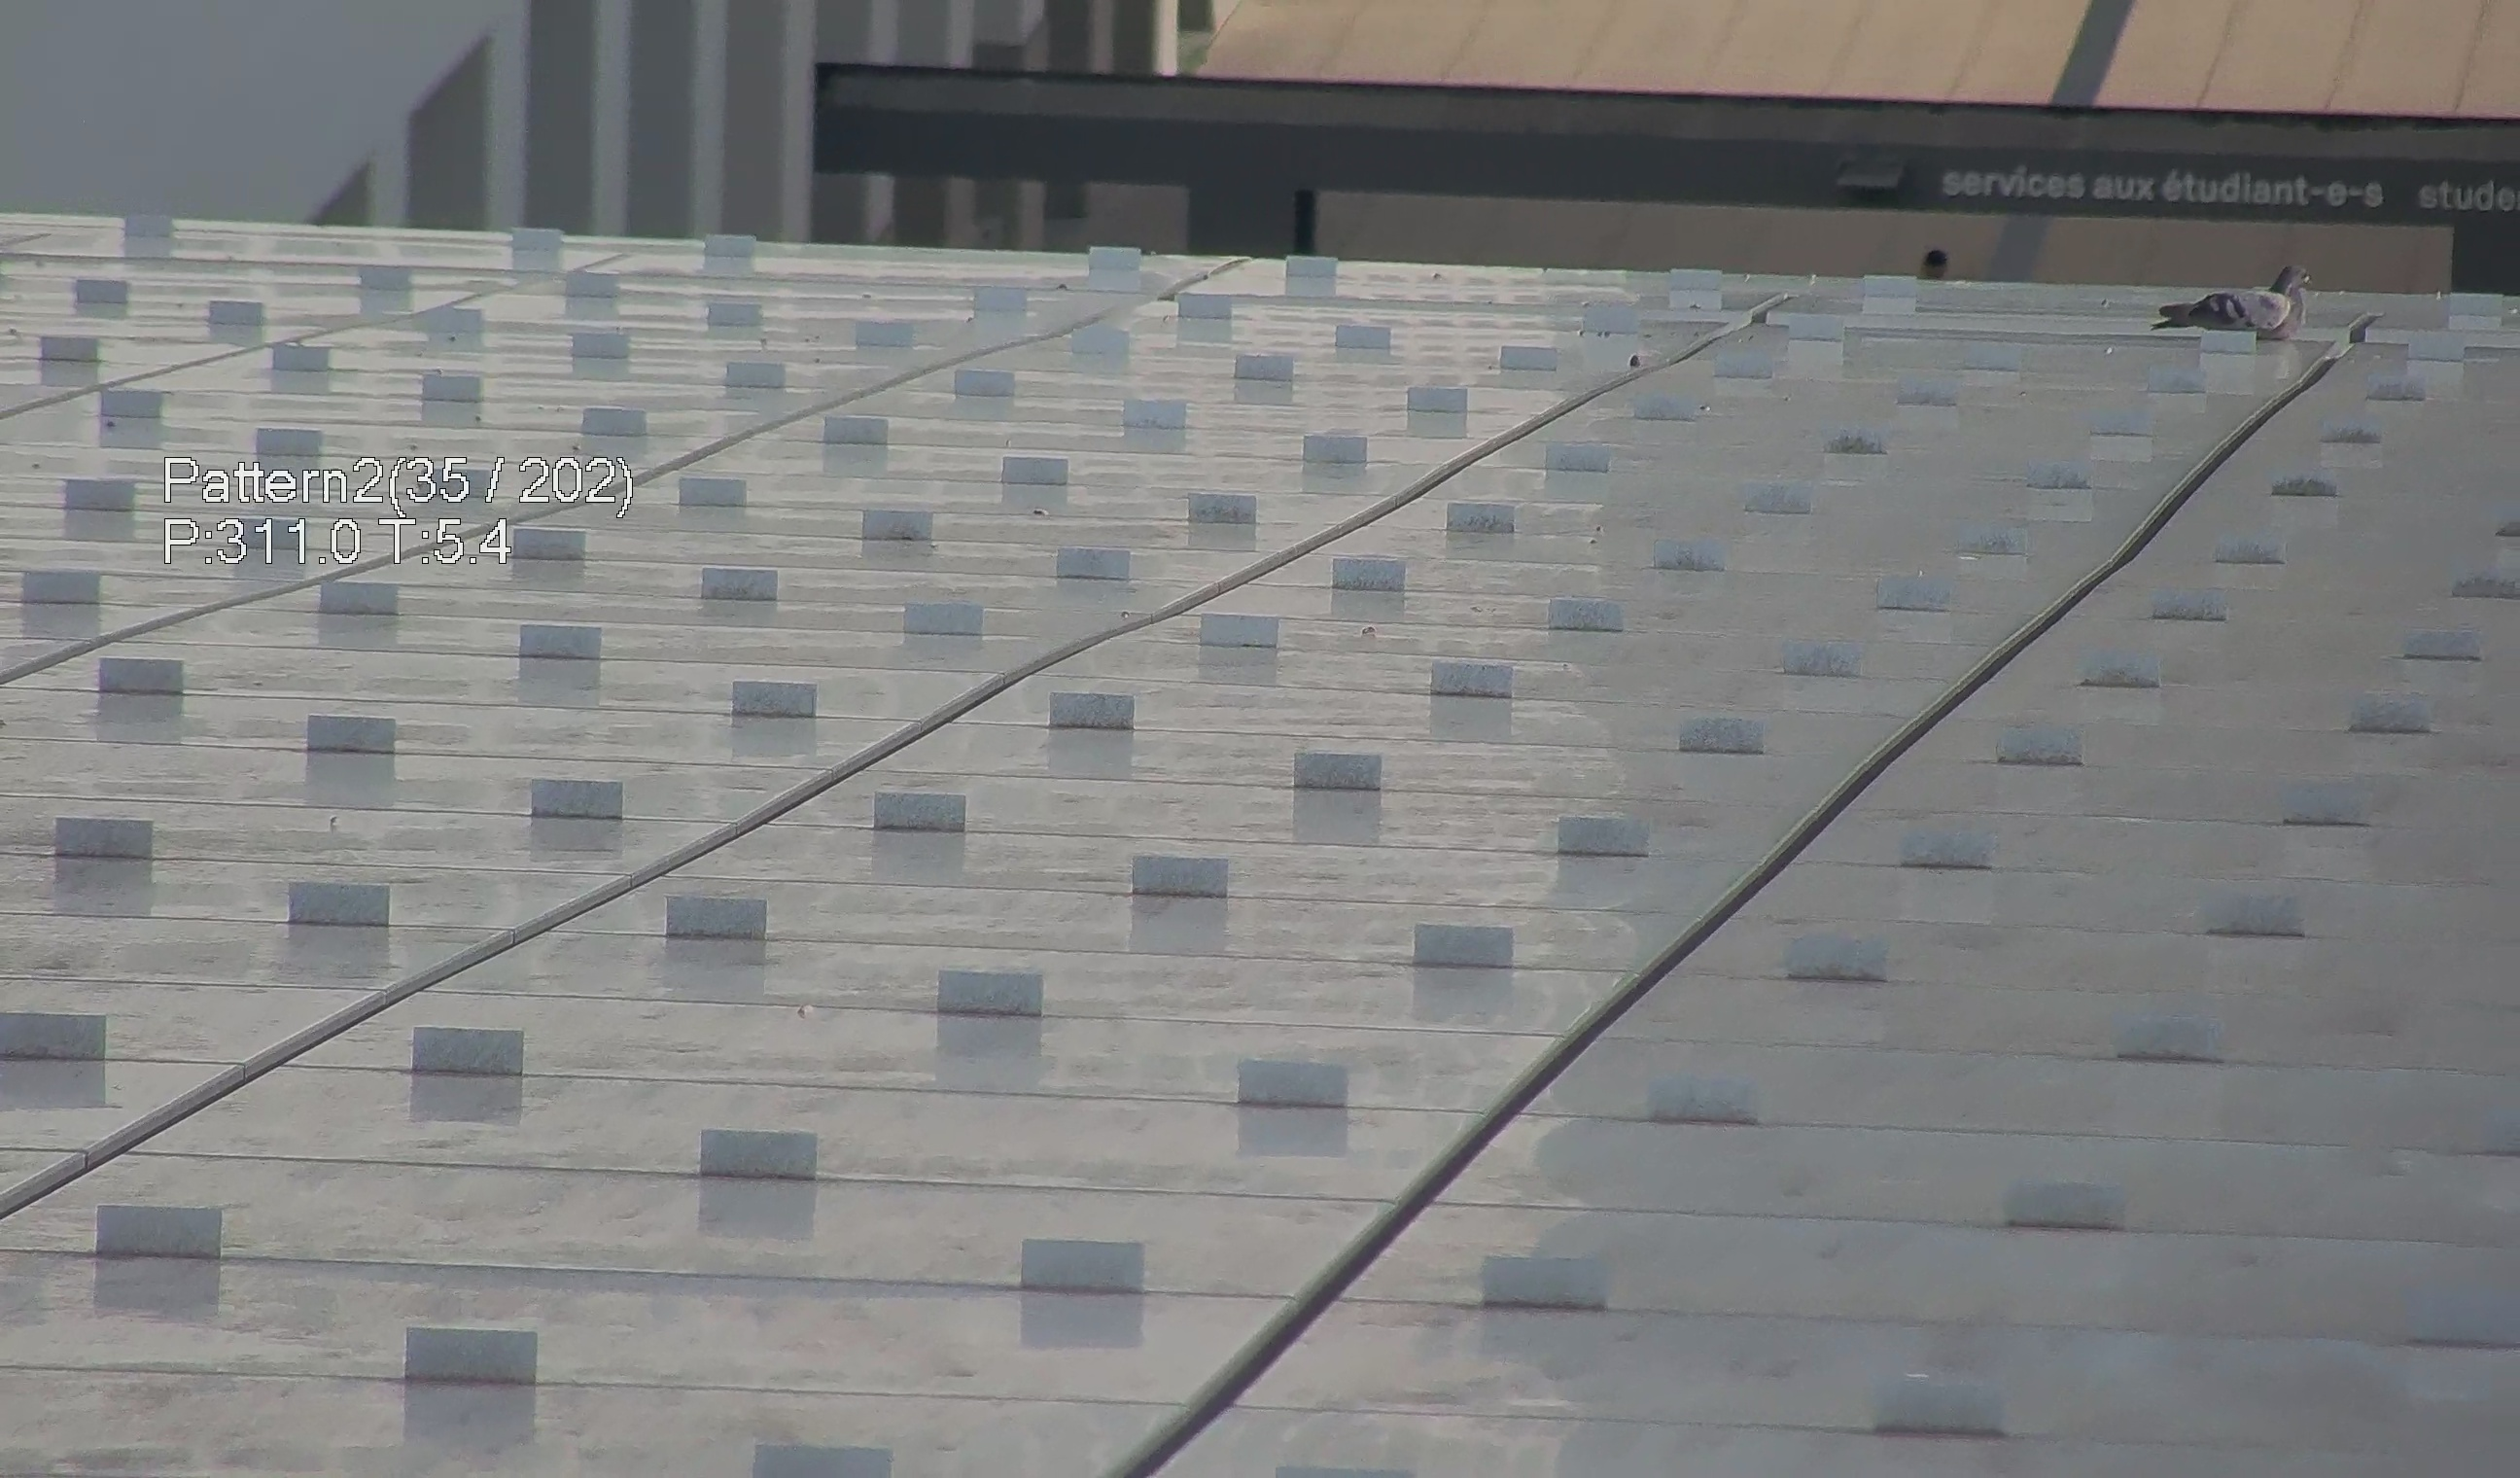Pigeon: (2158, 253, 2323, 338)
